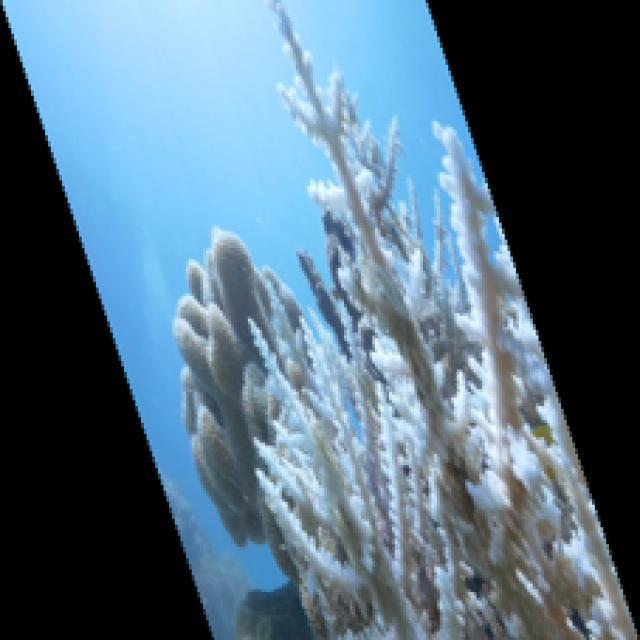Bleached: (244, 1, 640, 640)
Healthy: (174, 230, 305, 580)
